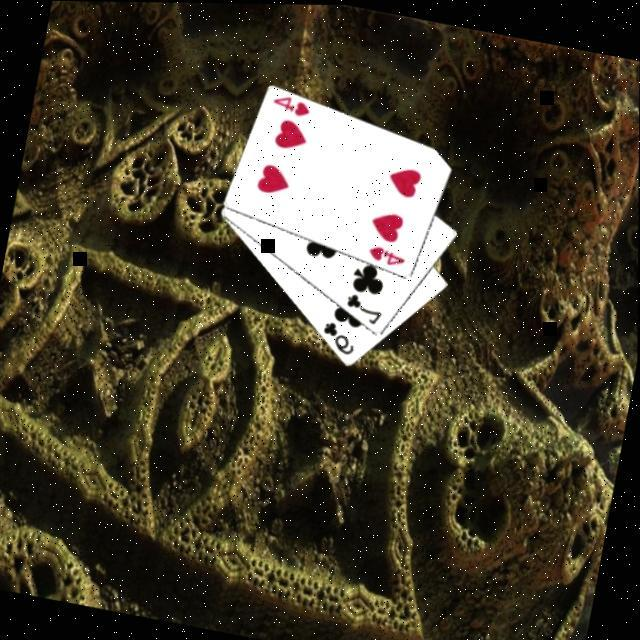4H: (366, 239, 411, 269), (270, 90, 315, 120)
6C: (318, 316, 362, 357)
7C: (342, 288, 389, 328)
